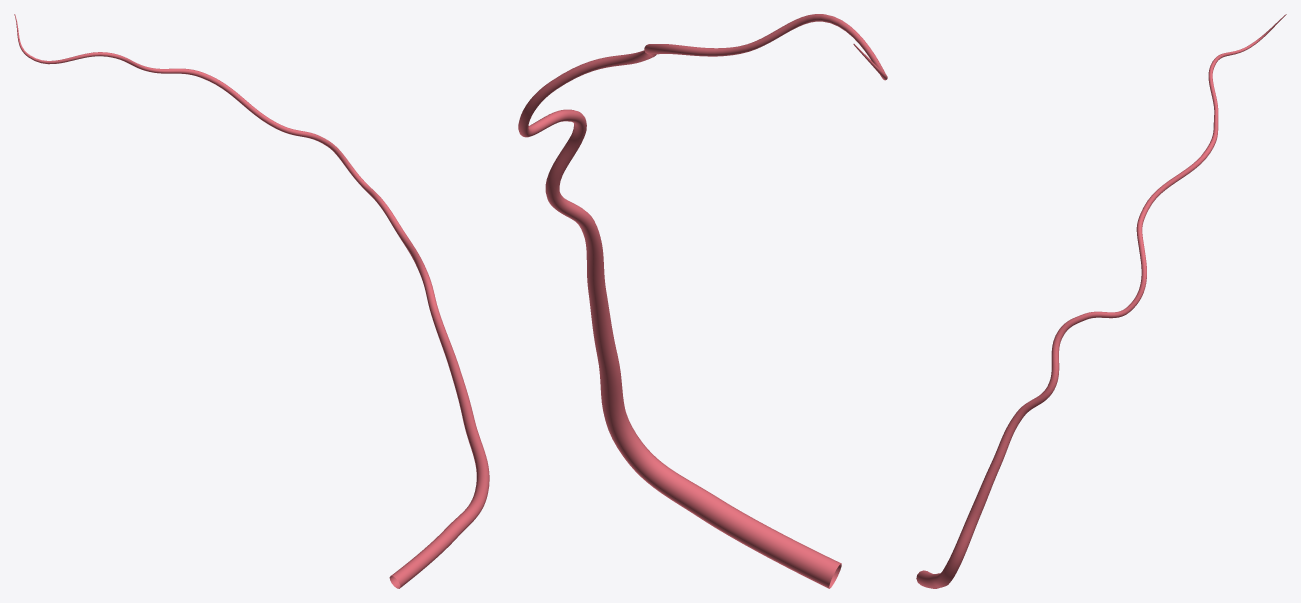
3 renders of one model, left to right at view 1: azimuth 30°, elevation 25°; view 2: azimuth 150°, elevation 25°; view 3: azimuth 270°, elevation 25°, orthographic. The views are drawn at different scales.
Parts seen in each view (by area): view 1: ZA_aa9bd7bfeb58a26c; view 2: ZA_aa9bd7bfeb58a26c; view 3: ZA_aa9bd7bfeb58a26c.
Part boxes in pixels (<box>): ZA_aa9bd7bfeb58a26c: <box>14,14,489,588</box>; ZA_aa9bd7bfeb58a26c: <box>518,14,887,588</box>; ZA_aa9bd7bfeb58a26c: <box>916,14,1286,588</box>.
Size of the model in its own units: 0.0497 by 0.0744 by 0.0523.
